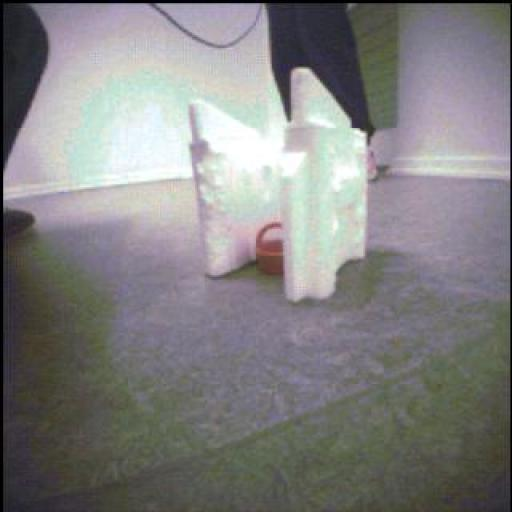Bucket: (259, 216, 291, 276)
